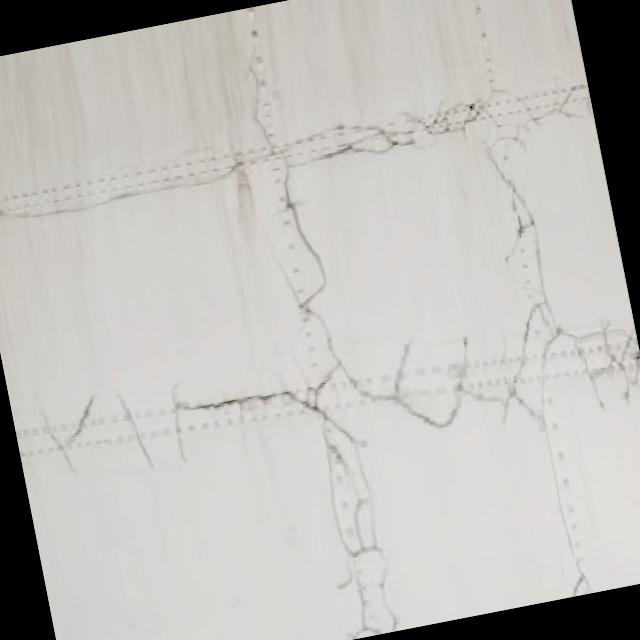crack: (11, 279, 640, 525), (0, 64, 604, 241), (239, 45, 405, 638), (479, 121, 612, 595)
